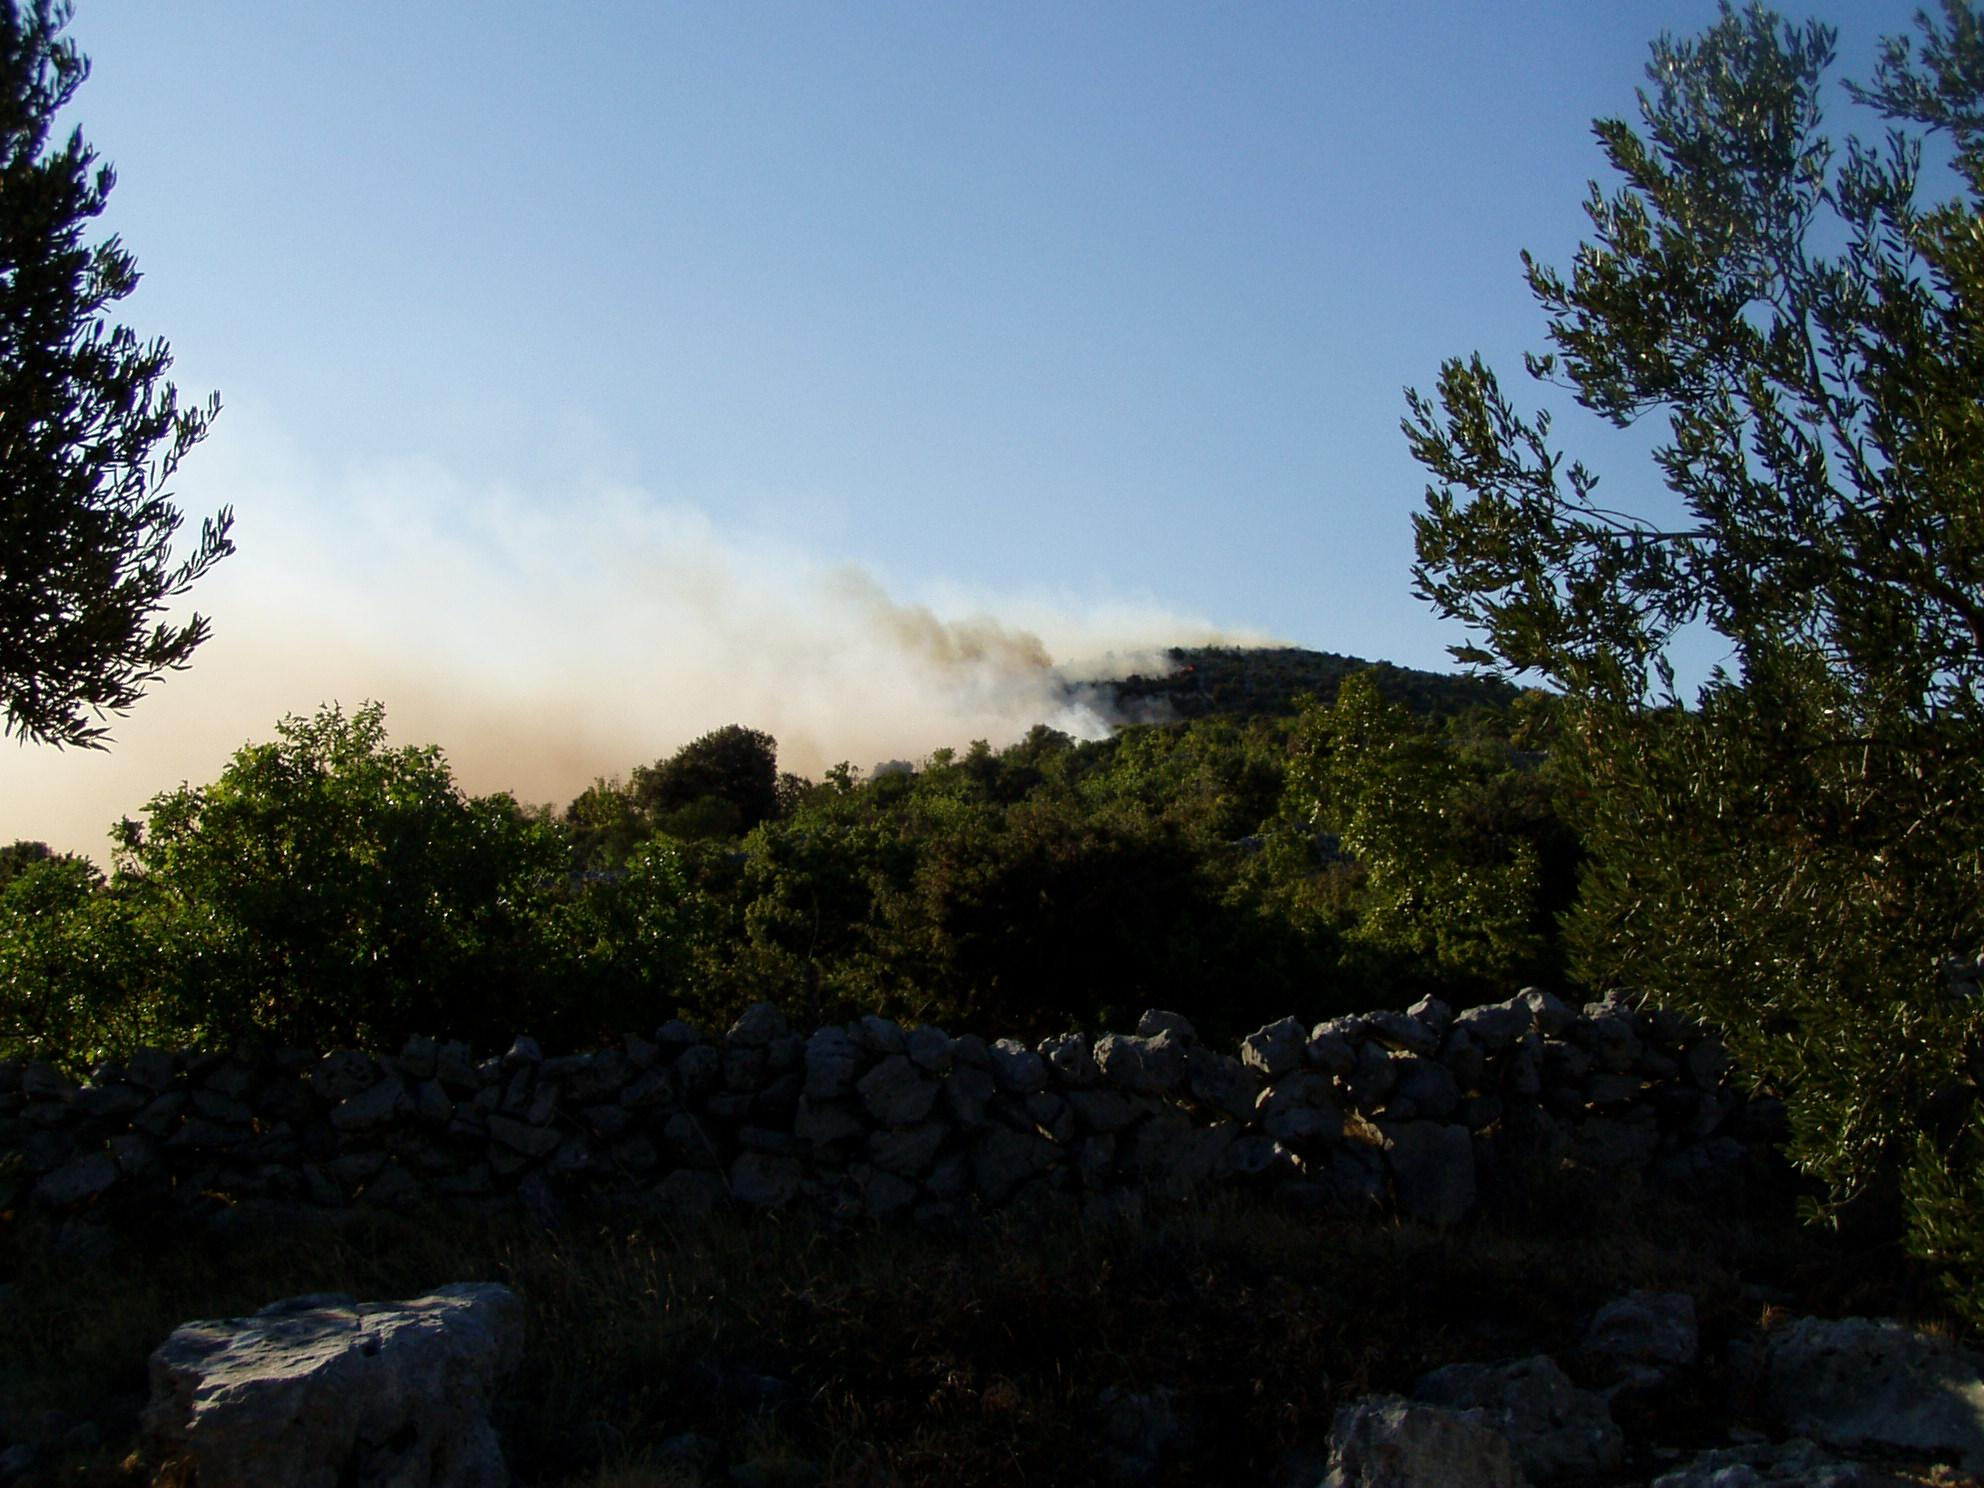Smoke: (3, 374, 1354, 850)
